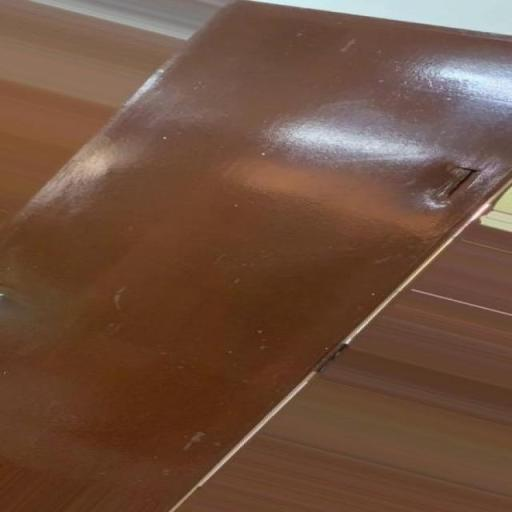door: (1, 1, 509, 510)
